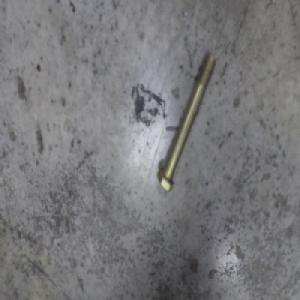Bolt: (158, 55, 216, 191)
